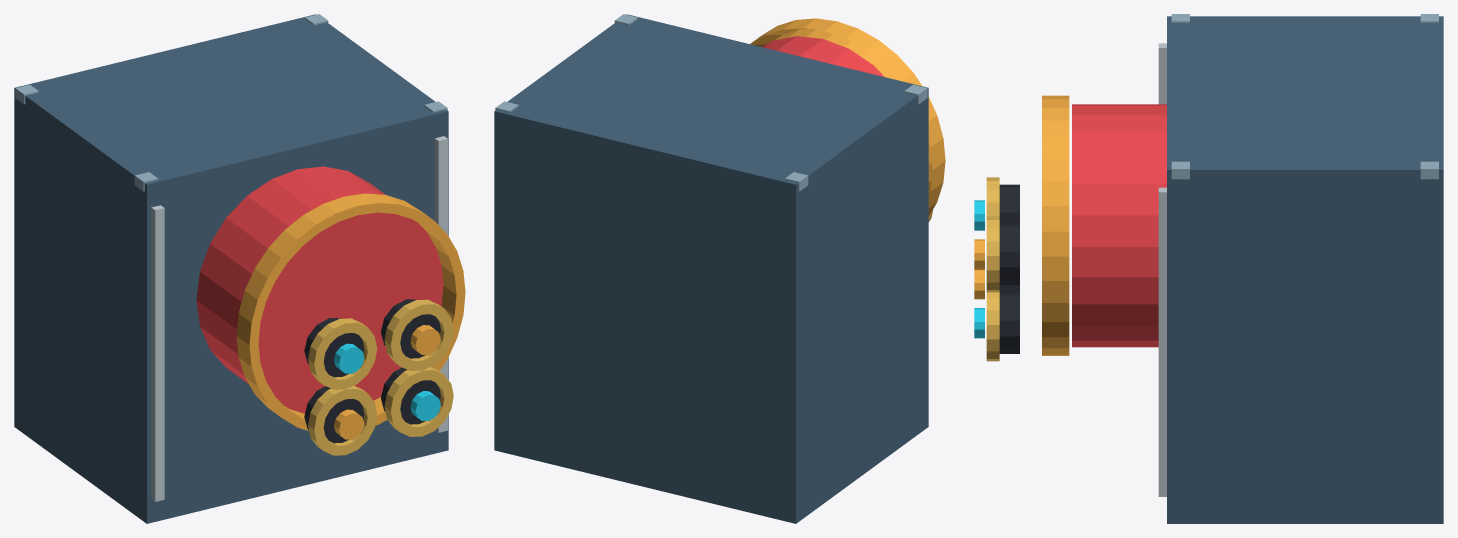
File: 71_L82_EmergencyRFStopStation.fbx
3 renders of one model, left to right at view 1: azimuth 30°, elevation 25°; view 2: azimuth 150°, elevation 25°; view 3: azimuth 270°, elevation 25°, orthographic. The views are drawn at different scales.
Visible parts, largest first — view 1: EmergencyRFStopStation; view 2: EmergencyRFStopStation; view 3: EmergencyRFStopStation.
Part boxes in pixels (box(x1,y1,x2,y2)): EmergencyRFStopStation: box(14, 14, 465, 523); EmergencyRFStopStation: box(494, 14, 945, 523); EmergencyRFStopStation: box(974, 14, 1443, 523).
Bounding box in the file's own units: 67.52 × 72.33 × 86.5.
